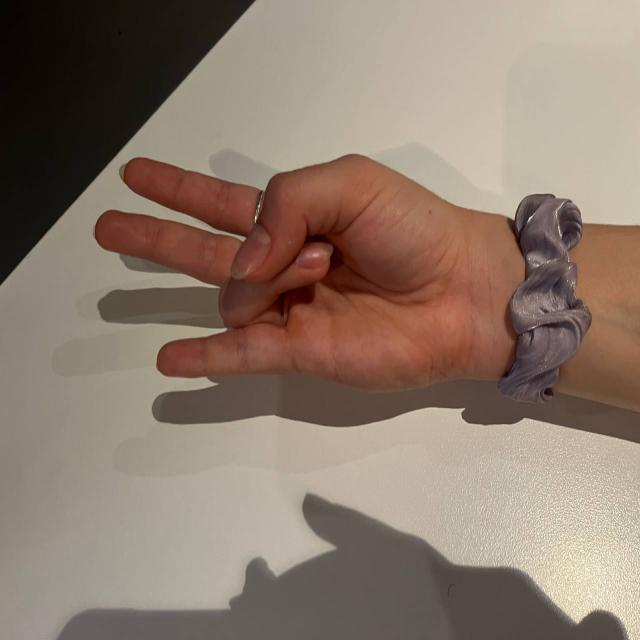n: (78, 148, 468, 380)
